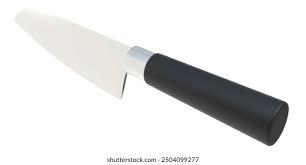Knife: (14, 6, 289, 146)
